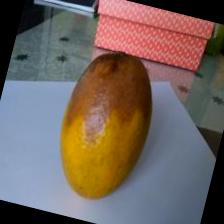Orange Rotten: (38, 35, 172, 218)
